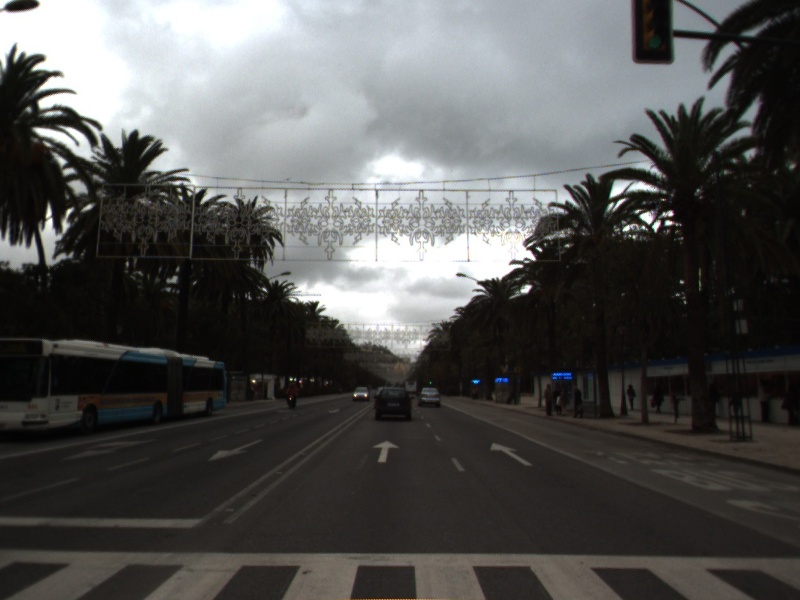STRAIGHT: (488, 440, 535, 468), (370, 438, 401, 464)
